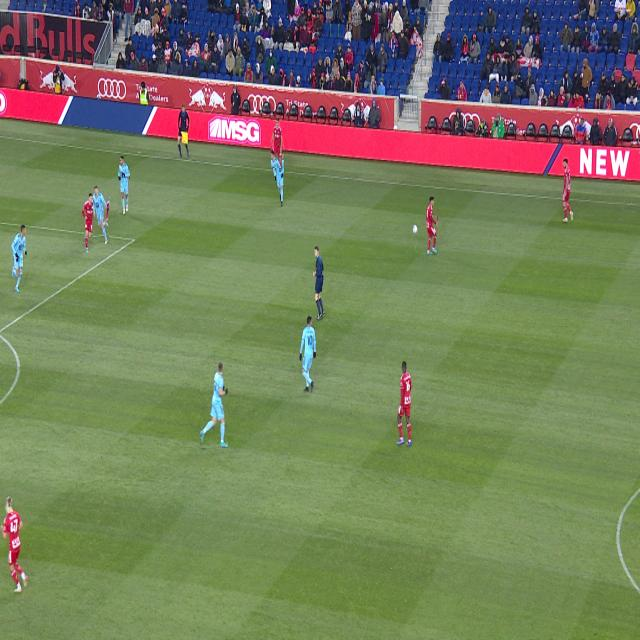football: (412, 225, 418, 234)
player: (0, 497, 29, 593), (200, 363, 228, 448), (299, 316, 316, 392), (397, 362, 411, 446), (11, 224, 26, 292), (93, 186, 109, 245), (82, 193, 96, 253), (562, 159, 574, 222), (273, 150, 284, 206), (119, 156, 129, 215), (427, 196, 437, 254), (272, 118, 282, 168)
referee: (313, 246, 325, 320)
